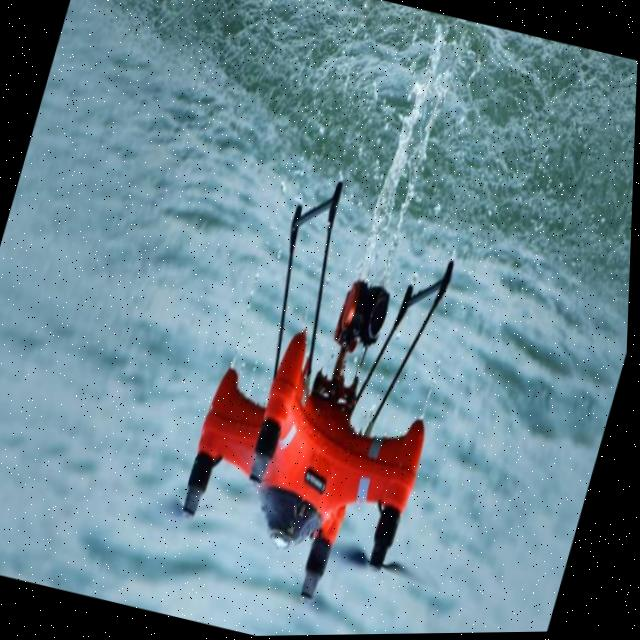drones: (135, 113, 550, 638)
